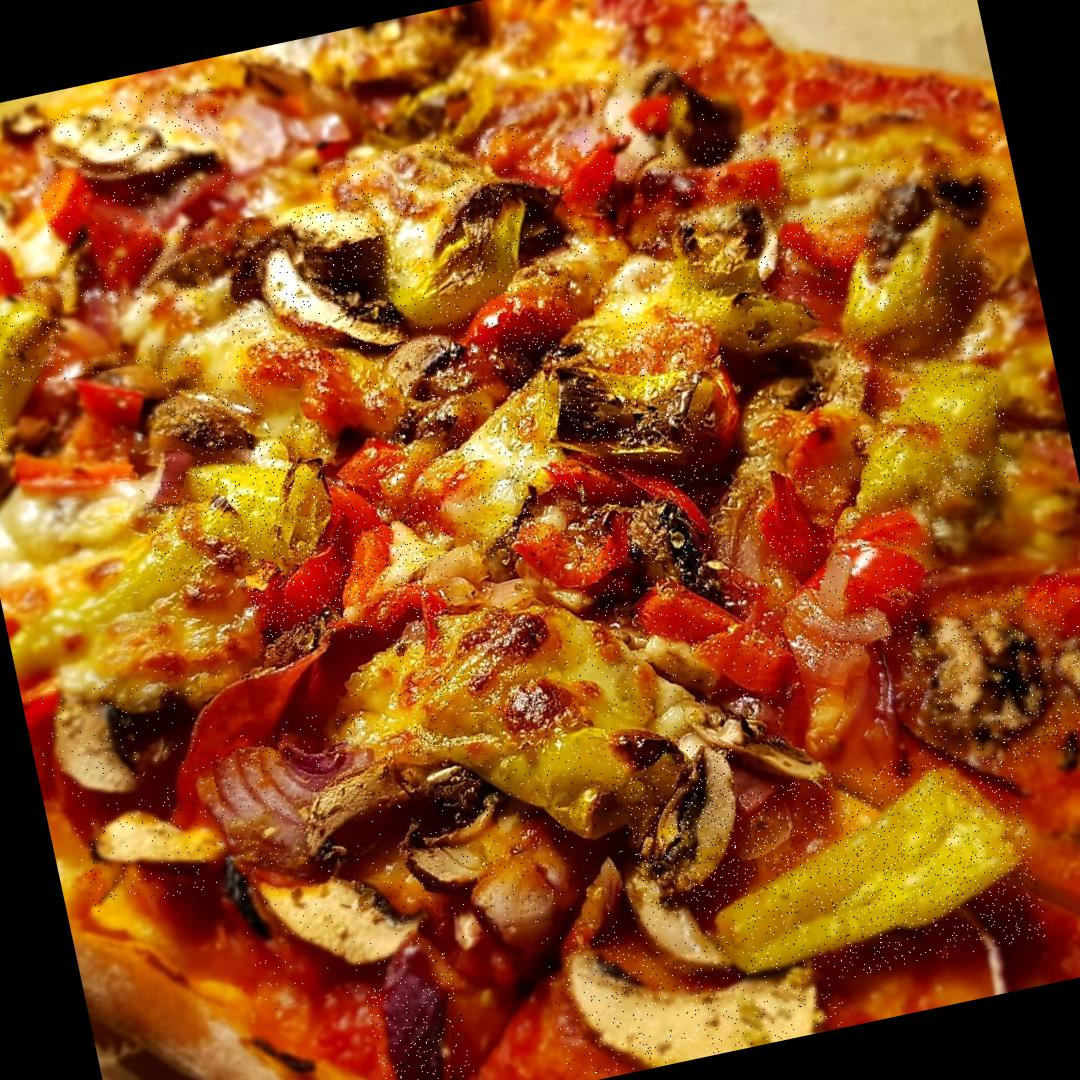Mushroom: (540, 881, 849, 1080), (384, 731, 588, 949), (889, 564, 1080, 781), (209, 191, 413, 391), (235, 842, 434, 1012), (529, 312, 717, 488), (35, 78, 236, 226), (29, 660, 222, 810), (614, 737, 762, 914), (578, 459, 737, 621), (67, 771, 237, 915), (840, 134, 1026, 264), (585, 50, 733, 200), (266, 742, 425, 866), (642, 178, 798, 302), (439, 158, 589, 282), (355, 304, 490, 426), (137, 364, 275, 477), (120, 215, 248, 317), (78, 336, 209, 426)
Onion: (180, 704, 398, 892), (687, 428, 805, 611), (353, 919, 481, 1080), (751, 550, 900, 676), (542, 844, 644, 962)
Peppers: (382, 572, 700, 884), (695, 736, 1050, 1002), (579, 185, 828, 396), (317, 123, 555, 343), (385, 351, 601, 572), (229, 456, 458, 658), (740, 446, 945, 642), (620, 536, 810, 734), (134, 420, 352, 586), (839, 332, 1022, 522), (813, 205, 1002, 359), (438, 264, 601, 439), (2, 362, 179, 512), (490, 112, 659, 262), (38, 152, 179, 310), (640, 121, 820, 232), (0, 276, 83, 459), (774, 198, 888, 304), (0, 203, 29, 327)
